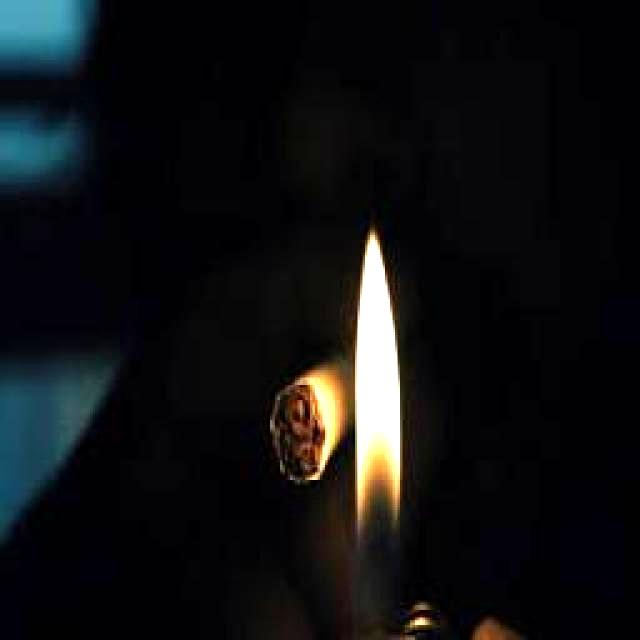fire: (356, 232, 400, 640)
